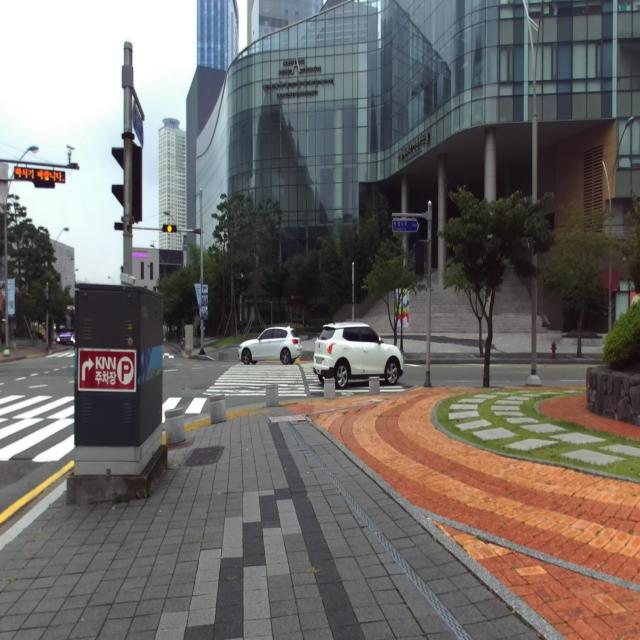횡단보도: (203, 362, 406, 397), (0, 398, 76, 465)
